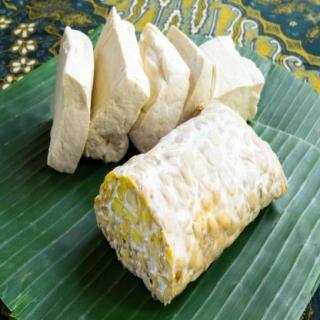Tempe: (46, 7, 290, 310)
